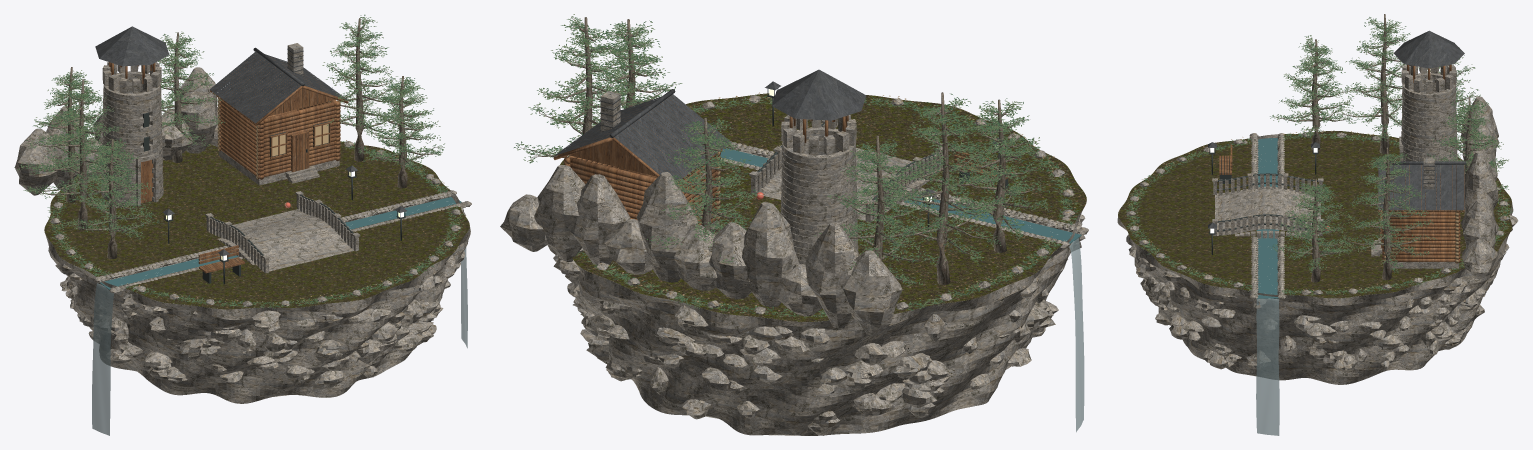
The model's file is camp.glb.
The picture shows the model from 3 angles, left to right: view 1: azimuth 30°, elevation 25°; view 2: azimuth 150°, elevation 25°; view 3: azimuth 270°, elevation 25°; orthographic projection. The views are drawn at different scales.
Visible parts, largest first — view 1: camp_Weathered_mineral_stone, camp_Natural_moss_and_soil, camp_Natural_fissured_bark, camp_Aged_oiled_timber, camp_Foliage_0, camp_Foliage_2, camp_Foliage_1, camp_Weathered_slate, camp_waterfall_Flowing_silver_water_-1, camp_Deep_stream, camp_Forged_iron, camp_waterfall_Flowing_silver_water_1 (+2 smaller); view 2: camp_Weathered_mineral_stone, camp_Natural_moss_and_soil, camp_Natural_fissured_bark, camp_Foliage_0, camp_Foliage_2, camp_Foliage_1, camp_Weathered_slate, camp_Aged_oiled_timber, camp_waterfall_Flowing_silver_water_-1, camp_Deep_stream; view 3: camp_Weathered_mineral_stone, camp_Natural_moss_and_soil, camp_Natural_fissured_bark, camp_Foliage_2, camp_Foliage_1, camp_Foliage_0, camp_Weathered_slate, camp_Aged_oiled_timber, camp_waterfall_Flowing_silver_water_1, camp_Deep_stream, camp_Forged_iron, camp_Exposed_end_grain.
Boxes of the visible parts, x1,y1,x2,y2 form: camp_Weathered_mineral_stone: (15, 43, 471, 403); camp_Natural_moss_and_soil: (44, 141, 469, 309); camp_Natural_fissured_bark: (16, 18, 442, 259); camp_Aged_oiled_timber: (109, 56, 348, 273); camp_Foliage_0: (19, 14, 462, 308); camp_Foliage_2: (20, 17, 462, 307); camp_Foliage_1: (14, 17, 464, 308); camp_Weathered_slate: (95, 26, 406, 256); camp_waterfall_Flowing_silver_water_-1: (92, 283, 114, 435); camp_Deep_stream: (100, 197, 461, 289); camp_Forged_iron: (143, 112, 405, 283); camp_waterfall_Flowing_silver_water_1: (461, 208, 467, 348); camp_Weathered_mineral_stone: (500, 90, 1088, 435); camp_Natural_moss_and_soil: (560, 93, 1086, 321); camp_Natural_fissured_bark: (520, 17, 1046, 284); camp_Foliage_0: (514, 17, 1079, 315); camp_Foliage_2: (516, 14, 1078, 317); camp_Foliage_1: (516, 16, 1077, 318); camp_Weathered_slate: (554, 69, 1006, 197); camp_Aged_oiled_timber: (553, 96, 1013, 224); camp_waterfall_Flowing_silver_water_-1: (1069, 238, 1084, 432); camp_Deep_stream: (720, 148, 1081, 243); camp_Weathered_mineral_stone: (1117, 65, 1518, 384); camp_Natural_moss_and_soil: (1118, 130, 1511, 298); camp_Natural_fissured_bark: (1273, 14, 1503, 282); camp_Foliage_2: (1126, 17, 1510, 295); camp_Foliage_1: (1124, 19, 1512, 296); camp_Foliage_0: (1126, 17, 1512, 295); camp_Weathered_slate: (1208, 30, 1466, 230); camp_Aged_oiled_timber: (1219, 64, 1464, 263); camp_waterfall_Flowing_silver_water_1: (1256, 298, 1279, 435); camp_Deep_stream: (1256, 138, 1279, 298); camp_Forged_iron: (1209, 148, 1380, 256); camp_Exposed_end_grain: (1127, 130, 1509, 291).
Bounding box in the file's own units: 15.5 × 12.2 × 15.17.
Materials: 18 (5 with a texture image).
